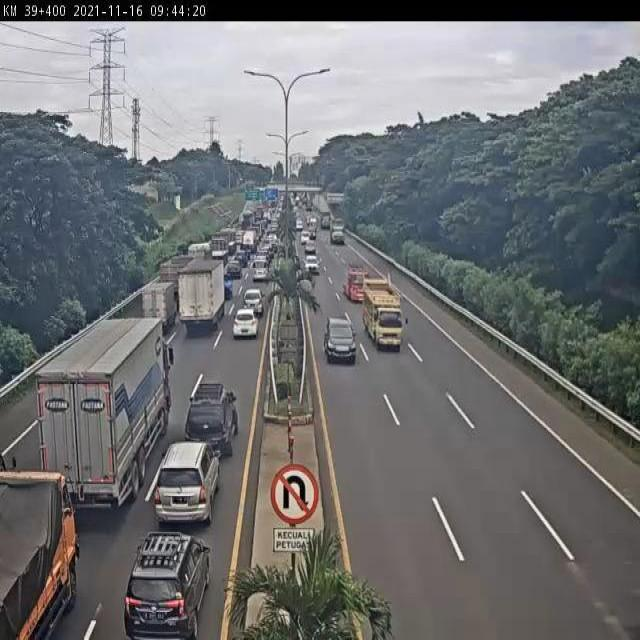car: (124, 531, 214, 636), (148, 440, 225, 532), (186, 379, 242, 452), (322, 316, 359, 369), (229, 304, 255, 351), (239, 286, 265, 318), (249, 253, 273, 280), (303, 253, 322, 275), (224, 259, 242, 281), (223, 278, 235, 306)
small truck: (139, 286, 171, 334), (344, 264, 372, 303)
truck-l-: (35, 309, 175, 507), (328, 222, 345, 246)
truck-m-: (0, 461, 80, 640), (177, 262, 226, 334), (364, 279, 408, 357), (156, 252, 193, 301)
